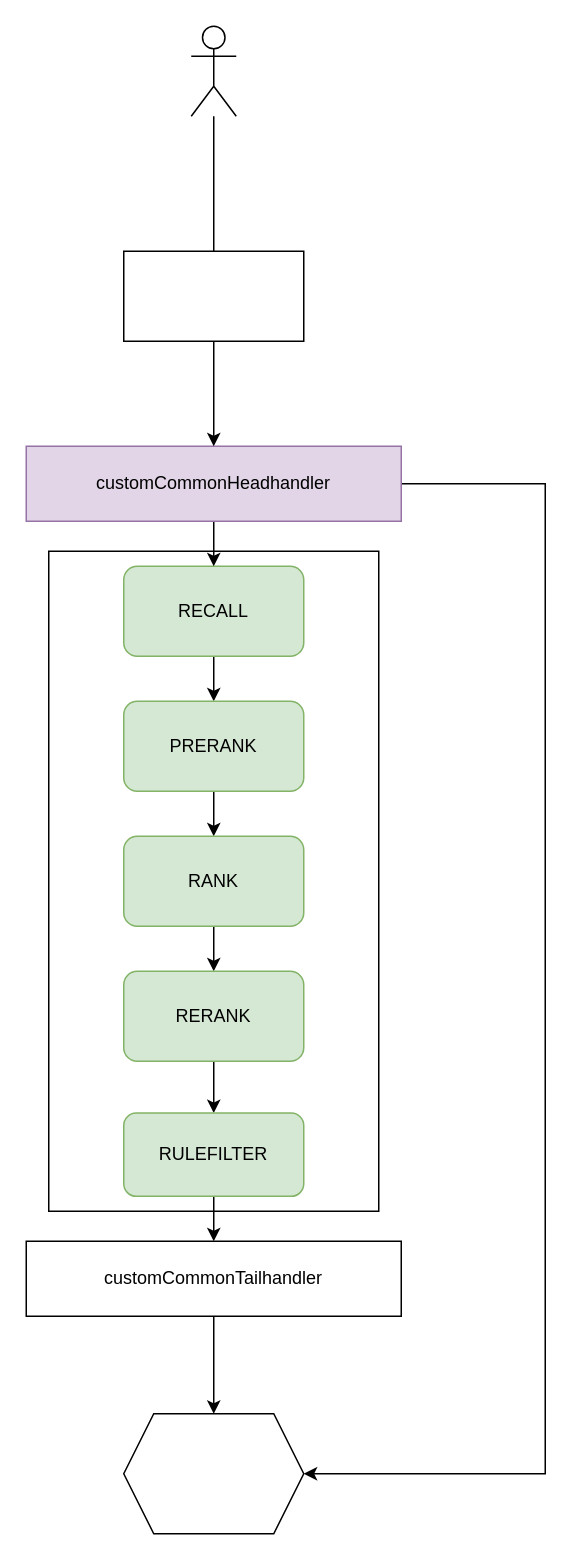
The diagram is 584 pixels wide and 1560 high, and some of its shapes have lost their labels. The centre of each missing label's shape, as x and y in pixels:
init pipeline: (x=213, y=295)
request: (x=213, y=70)
response: (x=213, y=1473)
